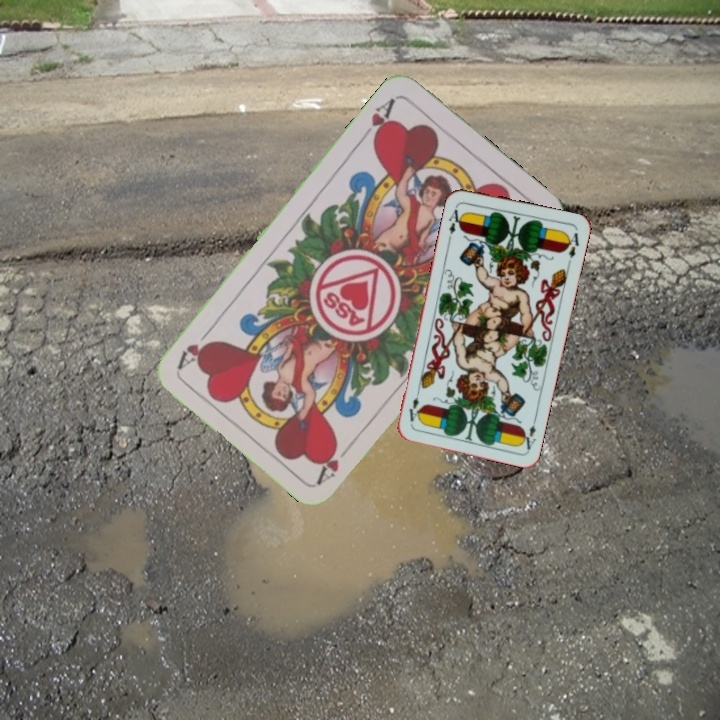EA: (517, 412, 539, 452), (444, 201, 466, 237)
HA: (313, 436, 357, 486), (357, 94, 398, 146)
